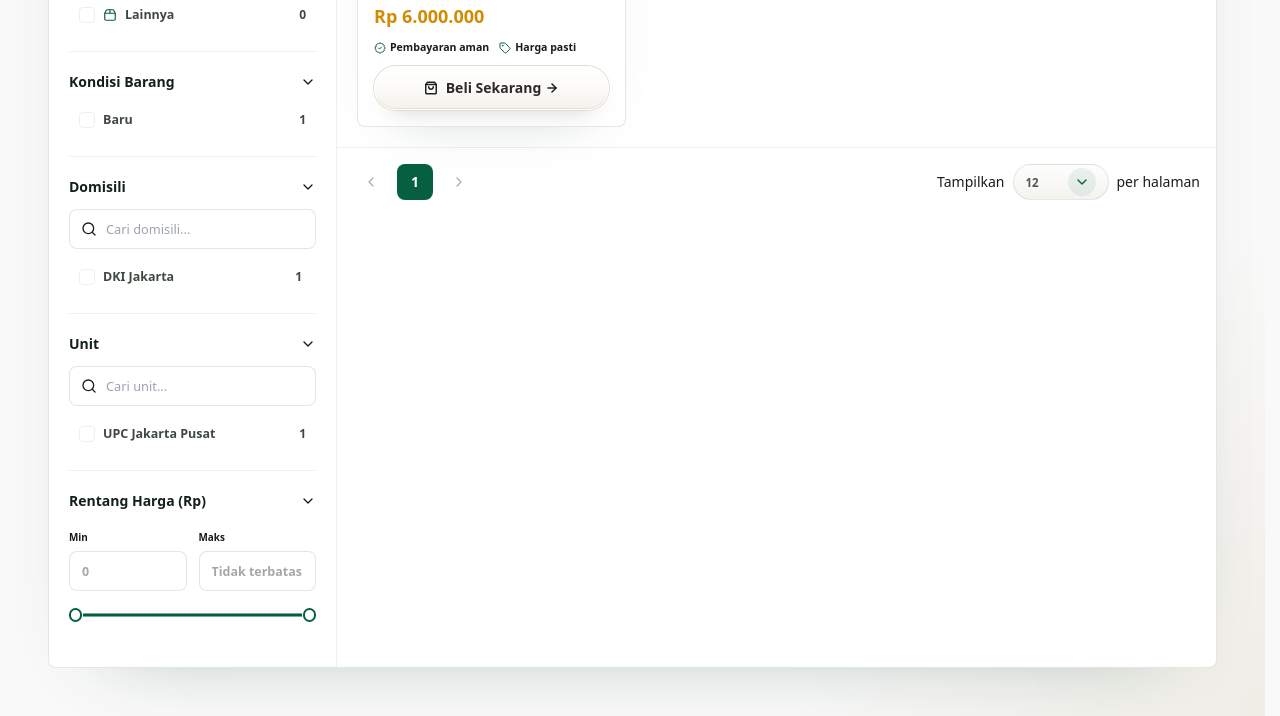
Test: CatalogPage › supports buyer price filters up to 10000000000
(page scrolled)
Step 1. Type "10000000000" into the field with placeholder "Tidak terbatas" → point(257, 571), box [198, 551, 316, 591]
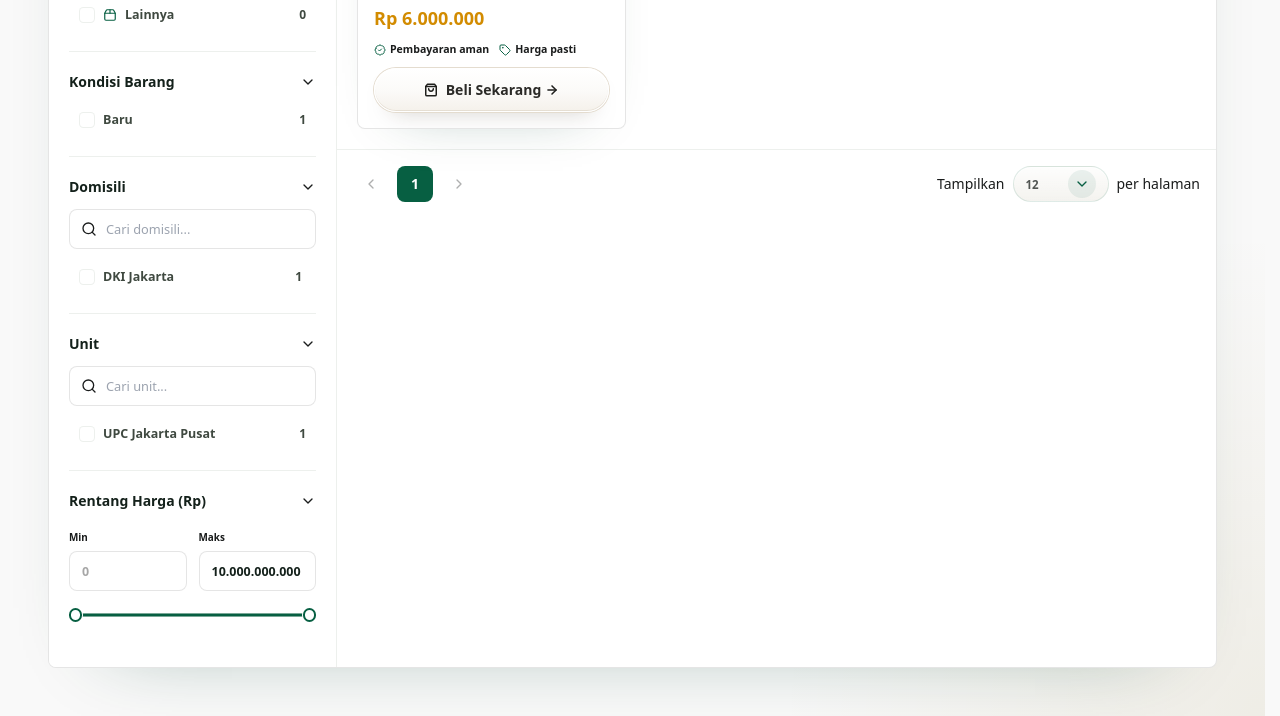
Expected: the field with placeholder "Tidak terbatas" holds "10.000.000.000", [198, 551, 316, 591]
